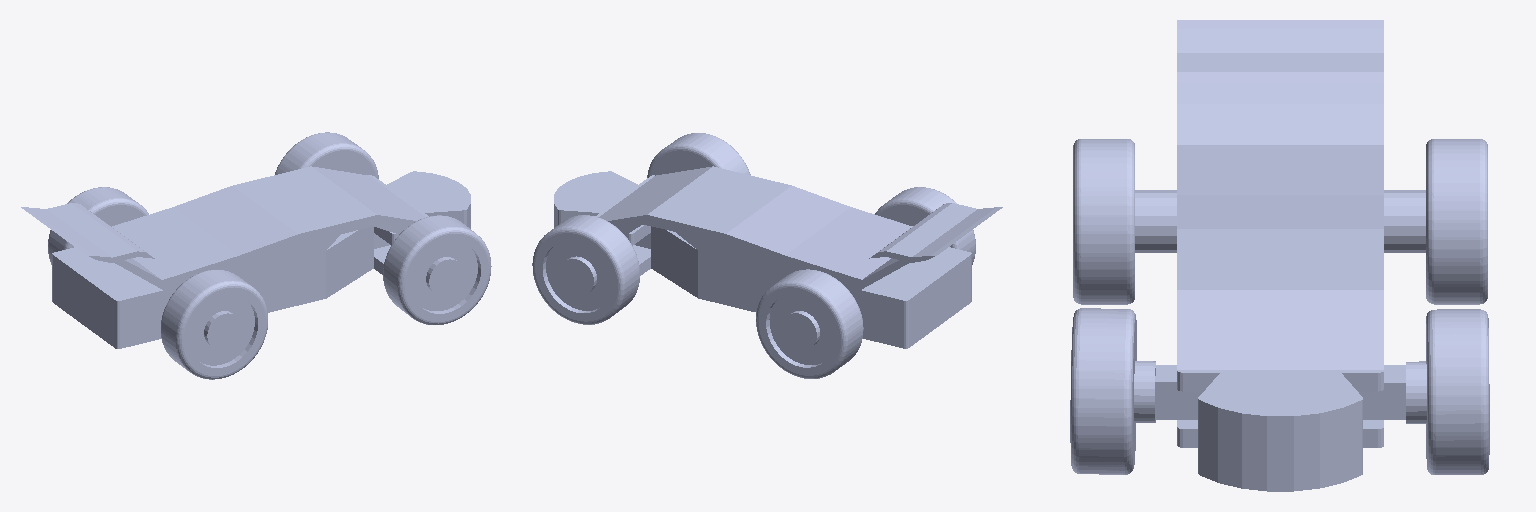
The robot description file, URDF, robot "robo_car":
<?xml version="1.0" ?>
<!-- =================================================================================== -->
<!-- |    This document was autogenerated by xacro from my_robot_integration.urdf.xacro | -->
<!-- |    EDITING THIS FILE BY HAND IS NOT RECOMMENDED                                 | -->
<!-- =================================================================================== -->
<!-- Name your robot here -->
<robot name="robo_car">
  <link name="dummy_link">
  </link>
  <joint name="dummy_joint" type="fixed">
    <parent link="dummy_link"/>
    <child link="Chassis"/>
    <origin rpy="0 0 0" xyz="0 0 0"/>
    <axis xyz="0 0 0"/>
  </joint>
  <link name="Chassis">
    <inertial>
      <origin rpy="0 0 0" xyz="-0.0103462273341146 -2.07617491865264E-07 0.123284817346471"/>
      <mass value="23.3799371164355"/>
      <inertia ixx="0.157573739259077" ixy="0.000119732264766818" ixz="0.0250783025046396" iyy="1.20795077711847" iyz="2.95993541448176E-07" izz="1.27270240514744"/>
    </inertial>
    <visual>
      <origin rpy="0 0 0" xyz="0 0 0"/>
      <geometry>
        <mesh filename="package://robo_car/meshes/Chassis.STL"/>
      </geometry>
      <material name="">
        <color rgba="0.792156862745098 0.819607843137255 0.933333333333333 1"/>
      </material>
    </visual>
    <collision>
      <origin rpy="0 0 0" xyz="0 0 0"/>
      <geometry>
        <mesh filename="package://robo_car/meshes/Chassis.STL"/>
      </geometry>
    </collision>
  </link>
  <link name="Rear_shaft">
    <inertial>
      <origin rpy="0 0 0" xyz="0 0 -1.11022302462516E-16"/>
      <mass value="2.08499993499038"/>
      <inertia ixx="0.0370759327564845" ixy="1.19804340059648E-19" ixz="2.70164934993595E-34" iyy="0.0370759327564845" iyz="2.06540513858489E-19" izz="0.0015133033778157"/>
    </inertial>
    <visual>
      <origin rpy="0 0 0" xyz="0 0 0"/>
      <geometry>
        <mesh filename="package://robo_car/meshes/Rear_shaft.STL"/>
      </geometry>
      <material name="">
        <color rgba="0.792156862745098 0.819607843137255 0.933333333333333 1"/>
      </material>
    </visual>
    <collision>
      <origin rpy="0 0 0" xyz="0 0 0"/>
      <geometry>
        <mesh filename="package://robo_car/meshes/Rear_shaft.STL"/>
      </geometry>
    </collision>
  </link>
  <joint name="Rear_shaft_joint" type="continuous">
    <origin rpy="1.5707963267949 0 3.14159265358979" xyz="-0.224746997513262 0 0.10293611342508"/>
    <parent link="Chassis"/>
    <child link="Rear_shaft"/>
    <axis xyz="0 0 1"/>
  </joint>
  <link name="Rear_right_wheel">
    <inertial>
      <origin rpy="0 0 0" xyz="0 0 0.0392290706074728"/>
      <mass value="2.04635551013629"/>
      <inertia ixx="0.00676619149168084" ixy="-1.2468929200419E-18" ixz="1.18764787385904E-20" iyy="0.00676619149168083" iyz="1.33633203056561E-19" izz="0.0117296858492282"/>
    </inertial>
    <visual>
      <origin rpy="0 0 0" xyz="0 0 0"/>
      <geometry>
        <mesh filename="package://robo_car/meshes/Rear_right_wheel.STL"/>
      </geometry>
      <material name="">
        <color rgba="0.792156862745098 0.819607843137255 0.933333333333333 1"/>
      </material>
    </visual>
    <collision>
      <origin rpy="0 0 0" xyz="0 0 0"/>
      <geometry>
        <mesh filename="package://robo_car/meshes/Rear_right_wheel.STL"/>
      </geometry>
      <surface>
        <friction>
          <ode>
            <mu>100000.0</mu>
            <mu2>100000.0</mu2>
          </ode>
        </friction>
        <contact>
          <ode>
            <min_depth>0.003</min_depth>
          </ode>
        </contact>
      </surface>
    </collision>
  </link>
  <joint name="Rear_right_wheel_joint" type="fixed">
    <origin rpy="0 0 0" xyz="0 0 -0.254"/>
    <parent link="Rear_shaft"/>
    <child link="Rear_right_wheel"/>
    <axis xyz="0 0 0"/>
  </joint>
  <link name="Rear_left_wheel">
    <inertial>
      <origin rpy="0 0 0" xyz="-1.11022302462516E-16 0 -0.0392290706074729"/>
      <mass value="2.04635551013629"/>
      <inertia ixx="0.00676619149168085" ixy="5.55715729148287E-19" ixz="-1.05877140014832E-20" iyy="0.00676619149168085" iyz="-4.36011621144649E-20" izz="0.0117296858492282"/>
    </inertial>
    <visual>
      <origin rpy="0 0 0" xyz="0 0 0"/>
      <geometry>
        <mesh filename="package://robo_car/meshes/Rear_left_wheel.STL"/>
      </geometry>
      <material name="">
        <color rgba="0.792156862745098 0.819607843137255 0.933333333333333 1"/>
      </material>
    </visual>
    <collision>
      <origin rpy="0 0 0" xyz="0 0 0"/>
      <geometry>
        <mesh filename="package://robo_car/meshes/Rear_left_wheel.STL"/>
      </geometry>
      <surface>
        <friction>
          <ode>
            <mu>100000.0</mu>
            <mu2>100000.0</mu2>
          </ode>
        </friction>
        <contact>
          <ode>
            <min_depth>0.003</min_depth>
          </ode>
        </contact>
      </surface>
    </collision>
  </link>
  <joint name="Rear_left_wheel_joint" type="fixed">
    <origin rpy="0 0 0" xyz="0 0 0.254"/>
    <parent link="Rear_shaft"/>
    <child link="Rear_left_wheel"/>
    <axis xyz="0 0 0"/>
  </joint>
  <link name="Front_left_shaft">
    <inertial>
      <origin rpy="0 0 0" xyz="-4.16333634234434E-17 0.0752407405474483 0"/>
      <mass value="0.488548380180526"/>
      <inertia ixx="0.000875162165757892" ixy="1.39336919823332E-19" ixz="7.47110791999739E-22" iyy="0.000317315913187682" iyz="1.63858254292143E-19" izz="0.000879594996011267"/>
    </inertial>
    <visual>
      <origin rpy="0 0 0" xyz="0 0 0"/>
      <geometry>
        <mesh filename="package://robo_car/meshes/Front_left_shaft.STL"/>
      </geometry>
      <material name="">
        <color rgba="0.792156862745098 0.819607843137255 0.933333333333333 1"/>
      </material>
    </visual>
    <collision>
      <origin rpy="0 0 0" xyz="0 0 0"/>
      <geometry>
        <mesh filename="package://robo_car/meshes/Front_left_shaft.STL"/>
      </geometry>
    </collision>
  </link>
  <joint name="Front_left_shaft_joint" type="revolute">
    <origin rpy="0 0 0.0113510822667684" xyz="0.271315002486738 0.0958849999999999 0.10293611342508"/>
    <parent link="Chassis"/>
    <child link="Front_left_shaft"/>
    <axis xyz="0 0 1"/>
    <limit effort="100" lower="-0.872665" upper="0.872665" velocity="10"/>
  </joint>
  <link name="Front_left_wheel">
    <inertial>
      <origin rpy="0 0 0" xyz="0 0 -0.0392290706074729"/>
      <mass value="2.04635551013629"/>
      <inertia ixx="0.00676619149168084" ixy="-7.68897511059205E-20" ixz="1.42301535138722E-19" iyy="0.00676619149168084" iyz="1.42450473063605E-20" izz="0.0117296858492282"/>
    </inertial>
    <visual>
      <origin rpy="0 0 0" xyz="0 0 0"/>
      <geometry>
        <mesh filename="package://robo_car/meshes/Front_left_wheel.STL"/>
      </geometry>
      <material name="">
        <color rgba="0.792156862745098 0.819607843137255 0.933333333333333 1"/>
      </material>
    </visual>
    <collision>
      <origin rpy="0 0 0" xyz="0 0 0"/>
      <geometry>
        <mesh filename="package://robo_car/meshes/Front_left_wheel.STL"/>
      </geometry>
      <surface>
        <friction>
          <ode>
            <mu>100000.0</mu>
            <mu2>100000.0</mu2>
          </ode>
        </friction>
        <contact>
          <ode>
            <min_depth>0.003</min_depth>
          </ode>
        </contact>
      </surface>
    </collision>
  </link>
  <joint name="Front_left_wheel_joint" type="continuous">
    <origin rpy="1.5707963267949 0 3.14159265358979" xyz="0 0.158750000000003 0"/>
    <parent link="Front_left_shaft"/>
    <child link="Front_left_wheel"/>
    <axis xyz="0 0 1"/>
    <limit effort="100" velocity="10"/>
  </joint>
  <link name="Front_right_shaft">
    <inertial>
      <origin rpy="0 0 0" xyz="-0.00323605114559641 -0.075171118197826 0"/>
      <mass value="0.488548380180526"/>
      <inertia ixx="0.000874130262101801" ixy="-2.39703725963753E-05" ixz="-9.2511483260975E-21" iyy="0.000318347816843774" iyz="-1.55159136928612E-19" izz="0.000879594996011268"/>
    </inertial>
    <visual>
      <origin rpy="0 0 0" xyz="0 0 0"/>
      <geometry>
        <mesh filename="package://robo_car/meshes/Front_right_shaft.STL"/>
      </geometry>
      <material name="">
        <color rgba="0.792156862745098 0.819607843137255 0.933333333333333 1"/>
      </material>
    </visual>
    <collision>
      <origin rpy="0 0 0" xyz="0 0 0"/>
      <geometry>
        <mesh filename="package://robo_car/meshes/Front_right_shaft.STL"/>
      </geometry>
    </collision>
  </link>
  <joint name="Front_right_shaft_joint" type="revolute">
    <origin rpy="0 0 0.0113510822667684" xyz="0.271315002486738 -0.0958849999999998 0.10293611342508"/>
    <parent link="Chassis"/>
    <child link="Front_right_shaft"/>
    <axis xyz="0 0 1"/>
    <limit effort="100" lower="-0.872665" upper="0.872665" velocity="10"/>
  </joint>
  <link name="Front_right_wheel">
    <inertial>
      <origin rpy="0 0 0" xyz="-0.00168721463872283 -5.55111512312578E-17 0.0391927708575061"/>
      <mass value="2.04635551013629"/>
      <inertia ixx="0.00677537296050123" ixy="3.25591294534012E-19" ixz="-0.000213278853415704" iyy="0.00676619149168084" iyz="-2.85912987260344E-18" izz="0.0117205043804078"/>
    </inertial>
    <visual>
      <origin rpy="0 0 0" xyz="0 0 0"/>
      <geometry>
        <mesh filename="package://robo_car/meshes/Front_right_wheel.STL"/>
      </geometry>
      <material name="">
        <color rgba="0.792156862745098 0.819607843137255 0.933333333333333 1"/>
      </material>
    </visual>
    <collision>
      <origin rpy="0 0 0" xyz="0 0 0"/>
      <geometry>
        <mesh filename="package://robo_car/meshes/Front_right_wheel.STL"/>
      </geometry>
      <surface>
        <friction>
          <ode>
            <mu>100000.0</mu>
            <mu2>100000.0</mu2>
          </ode>
        </friction>
        <contact>
          <ode>
            <min_depth>0.003</min_depth>
          </ode>
        </contact>
      </surface>
    </collision>
  </link>
  <joint name="Front_right_wheel_joint" type="continuous">
    <origin rpy="1.5707963267949 0 3.14159265358979" xyz="-0.00682772545333332 -0.158603104210273 0"/>
    <parent link="Front_right_shaft"/>
    <child link="Front_right_wheel"/>
    <axis xyz="-0.0430092941942245 0 0.99907467219068"/>
    <limit effort="100" velocity="10"/>
  </joint>
  <transmission name="Rear_wheel_motor">
    <type>transmission_interface/SimpleTransmission</type>
    <joint name="Rear_shaft_joint">
      <hardwareInterface>hardware_interface/VelocityJointInterface</hardwareInterface>
    </joint>
    <actuator name="Rear_wheel_motor">
      <mechanicalReduction>50</mechanicalReduction>
      <hardwareInterface>hardware_interface/VelocityJointInterface</hardwareInterface>
    </actuator>
  </transmission>
  <transmission name="Front_left_wheel_motor">
    <type>transmission_interface/SimpleTransmission</type>
    <joint name="Front_left_shaft_joint">
      <hardwareInterface>hardware_interface/EffortJointInterface</hardwareInterface>
    </joint>
    <actuator name="Front_left_wheel_motor">
      <mechanicalReduction>50</mechanicalReduction>
      <hardwareInterface>hardware_interface/EffortJointInterface</hardwareInterface>
    </actuator>
  </transmission>
  <transmission name="Front_right_wheel_motor">
    <type>transmission_interface/SimpleTransmission</type>
    <joint name="Front_right_shaft_joint">
      <hardwareInterface>hardware_interface/EffortJointInterface</hardwareInterface>
    </joint>
    <actuator name="Front_right_wheel_motor">
      <mechanicalReduction>50</mechanicalReduction>
      <hardwareInterface>hardware_interface/EffortJointInterface</hardwareInterface>
    </actuator>
  </transmission>
  <link name="base_laser">
    <inertial>
      <origin rpy="0 0 0" xyz="-0.00029774 0.0066667 0.00013047"/>
      <mass value="0.15717"/>
      <inertia ixx="6.7885E-05" ixy="-1.3987E-07" ixz="-8.1554E-07" iyy="0.00013173" iyz="-9.0932E-08" izz="7.1972E-05"/>
    </inertial>
    <visual>
      <origin rpy="0 0 0" xyz="0 0 0"/>
      <geometry>
        <mesh filename="package://robo_car/meshes/ydlidar.dae"/>
      </geometry>
      <material name="">
        <color rgba="0.64706 0.61961 0.58824 1"/>
      </material>
    </visual>
    <collision>
      <origin rpy="0 0 0" xyz="0 0 0"/>
      <geometry>
        <mesh filename="package://robo_car/meshes/ydlidar.dae"/>
      </geometry>
    </collision>
  </link>
  <link name="laser_frame">
    <inertial>
      <origin rpy="0 0 0" xyz="-0.00036659 0.00064155 -0.00027052"/>
      <mass value="0.25482"/>
      <inertia ixx="8.9194E-05" ixy="1.8116E-07" ixz="3.6435E-08" iyy="0.00018279" iyz="2.423E-07" izz="0.00011103"/>
    </inertial>
    <!--visual>
      <origin
        xyz="0 0 0"
        rpy="0 0 0" />
      <geometry>
        <mesh
          filename="package://ydlidar_ros/meshes/ydlidar.dae" />
      </geometry>
      <material
        name="">
        <color
          rgba="0.64706 0.61961 0.58824 1" />
      </material>
    </visual-->
    <!--collision>
      <origin
        xyz="0 0 0"
        rpy="0 0 0" />
      <geometry>
        <mesh
          filename="package://ydlidar_ros/meshes/ydlidar.dae" />
      </geometry>
    </collision-->
  </link>
  <joint name="laser_joint" type="fixed">
    <origin rpy="0 0 0" xyz="0 0 0.03172"/>
    <parent link="base_laser"/>
    <child link="laser_frame"/>
    <axis xyz="0 0 0"/>
  </joint>
  <!-- Add your gazebo sensors here -->
  <!--  Gazebo plugin for control here is already added for you -->
  <gazebo>
    <plugin filename="libgazebo_ros_control.so" name="gazebo_ros_control">
      <robotNamespace>/robo_car</robotNamespace>
      <robotSimType>gazebo_ros_control/DefaultRobotHWSim</robotSimType>
      <legacyModeNS>true</legacyModeNS>
    </plugin>
  </gazebo>
  <gazebo reference="base_laser">
    <!-- <gravity>true</gravity> -->
    <!-- Gazebo has fixed set of Sensors types. Check them out here <> -->
    <sensor name="laser" type="ray">
      <!-- Add in your sensor characteristics -->
      <pose> 0 0 0 0 0 0 </pose>
      <visualise>true</visualise>
      <update_rate>40</update_rate>
      <!-- <always_on>true</always_on> -->
      <ray>
        <scan>
          <horizontal>
            <samples>720</samples>
            <resolution>1</resolution>
            <min_angle>-1.570796</min_angle>
            <max_angle>1.570796</max_angle>
          </horizontal>
        </scan>
        <range>
          <min>0.10</min>
          <max>30.0</max>
          <resolution>0.01</resolution>
        </range>
        <noise>
          <type>gaussian</type>
          <mean>0.0</mean>
          <stddev>0.01</stddev>
        </noise>
      </ray>
      <plugin filename="libgazebo_ros_laser.so" name="gazebo_ros_head_hokuyo_controller">
        <!-- Use topic name as /my_robot/scan -->
        <topicName>/robo_car/scan</topicName>
        <frameName>laser_frame</frameName>
      </plugin>
    </sensor>
  </gazebo>
  <!-- Create a joint between your robot and sensor -->
  <joint name="lidar_joint" type="fixed">
    <origin rpy="0 0 0" xyz="0.4 0 0.1"/>
    <parent link="Chassis"/>
    <child link="base_laser"/>
    <axis xyz="0 0 0"/>
  </joint>
</robot>

--- Facts derived from the render (not from the file) ---
Views: 3 orthographic renders of the robot side by side, from view 1: azimuth 30°, elevation 25°; view 2: azimuth 150°, elevation 25°; view 3: azimuth 270°, elevation 25°.
Model robo_car with 11 links and 10 joints (2 revolute, 3 continuous, 5 fixed), rooted at dummy_link, posed all joints at 0.
Visible links, largest first — view 1: Chassis, Front_right_wheel, Rear_right_wheel, Front_left_wheel, Rear_left_wheel; view 2: Chassis, Front_left_wheel, Rear_left_wheel, Front_right_wheel, Rear_right_wheel; view 3: Chassis, Front_right_wheel, Front_left_wheel, Rear_right_wheel, Rear_left_wheel, Rear_shaft, Front_left_shaft, Front_right_shaft.
Boxes of the visible links, bbox=[...] form: Chassis: bbox=[21, 166, 470, 348]; Front_right_wheel: bbox=[383, 215, 491, 324]; Rear_right_wheel: bbox=[161, 270, 267, 379]; Front_left_wheel: bbox=[275, 132, 378, 178]; Rear_left_wheel: bbox=[48, 187, 148, 264]; Chassis: bbox=[554, 166, 1002, 348]; Front_left_wheel: bbox=[532, 215, 639, 324]; Rear_left_wheel: bbox=[756, 269, 863, 378]; Front_right_wheel: bbox=[647, 133, 750, 177]; Rear_right_wheel: bbox=[875, 187, 975, 264]; Chassis: bbox=[1177, 20, 1383, 491]; Front_right_wheel: bbox=[1070, 308, 1136, 474]; Front_left_wheel: bbox=[1426, 309, 1489, 474]; Rear_right_wheel: bbox=[1073, 139, 1134, 304]; Rear_left_wheel: bbox=[1426, 139, 1487, 304]; Rear_shaft: bbox=[1135, 190, 1425, 252]; Front_left_shaft: bbox=[1359, 361, 1426, 423]; Front_right_shaft: bbox=[1134, 361, 1202, 422].
Bounding box of the posed robot: 0.904 × 0.5131 × 0.2653 m (x, y, z).
8 mesh visuals loaded from 9 distinct referenced files (8 binary STL); not drawn: 1 (reference not matched to a file when rendering).
